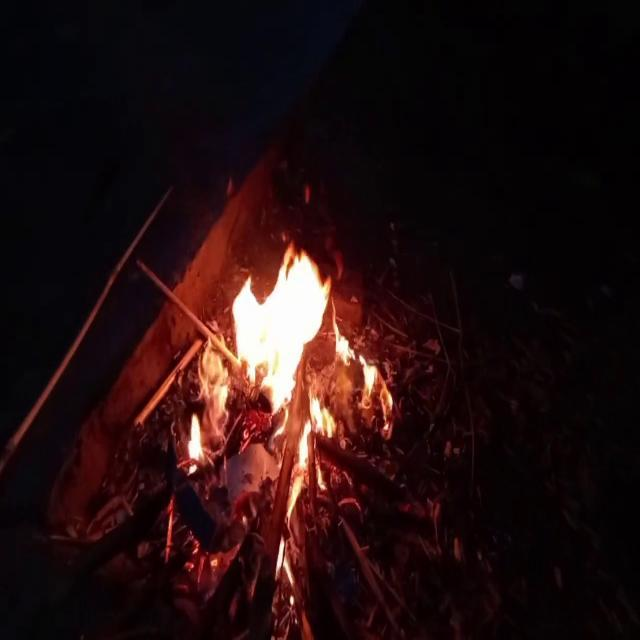Fire: (170, 215, 400, 484)
